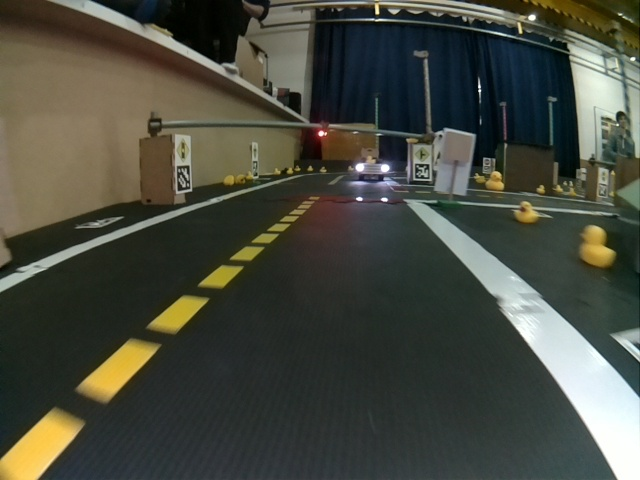Duckie: (579, 226, 615, 268), (513, 201, 538, 223), (486, 171, 505, 190), (245, 171, 255, 181), (224, 175, 234, 184), (236, 174, 245, 184), (537, 184, 546, 194), (319, 165, 328, 174), (366, 155, 375, 164), (305, 164, 314, 172), (272, 167, 281, 175), (286, 167, 295, 174)
Duckiebot: (356, 163, 389, 181)
Intersection sign: (414, 147, 430, 162)
QR code: (75, 216, 124, 229), (175, 164, 192, 191), (415, 163, 430, 181), (252, 161, 260, 177)
Signal sign: (176, 138, 190, 162)
Traffic light: (317, 127, 327, 137)
